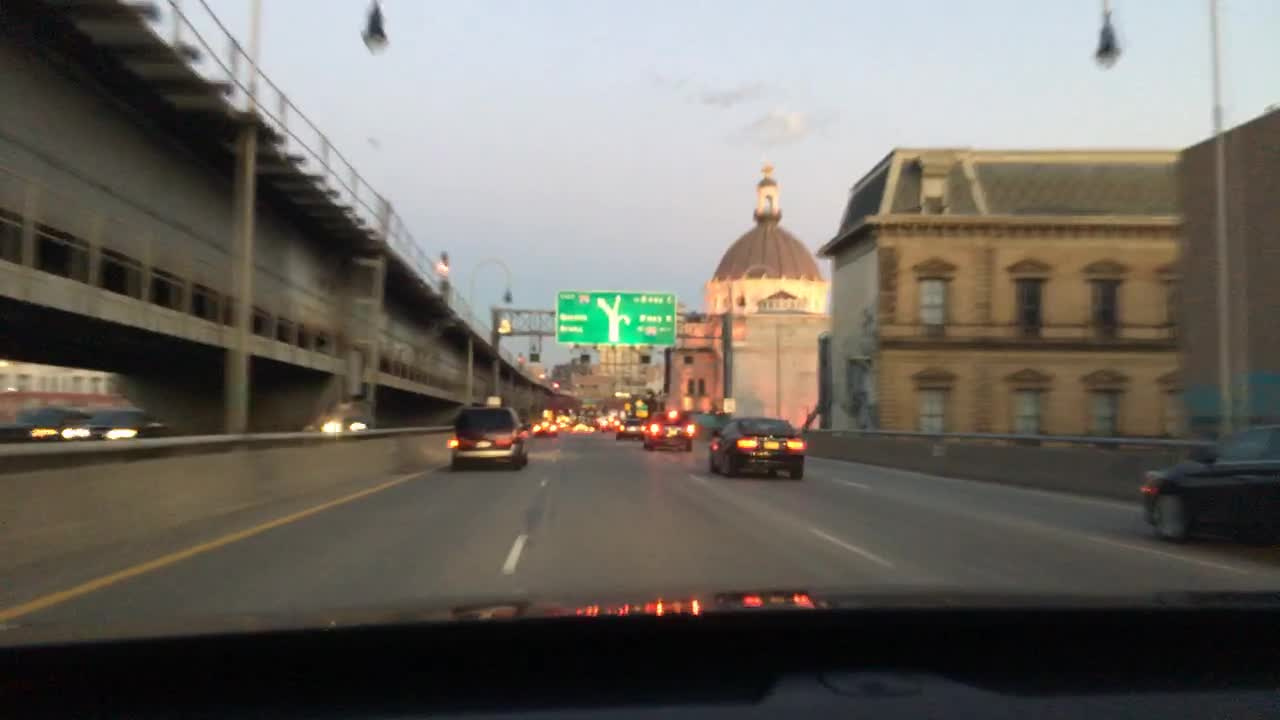car: (1137, 421, 1278, 543), (707, 416, 807, 480), (452, 405, 533, 470), (0, 401, 98, 442), (307, 395, 375, 434), (84, 407, 168, 437), (641, 408, 695, 451), (615, 413, 645, 441), (531, 416, 560, 439), (597, 413, 625, 433), (555, 407, 579, 428), (578, 408, 598, 427)
traffic sign: (554, 289, 677, 345), (634, 399, 648, 417)
